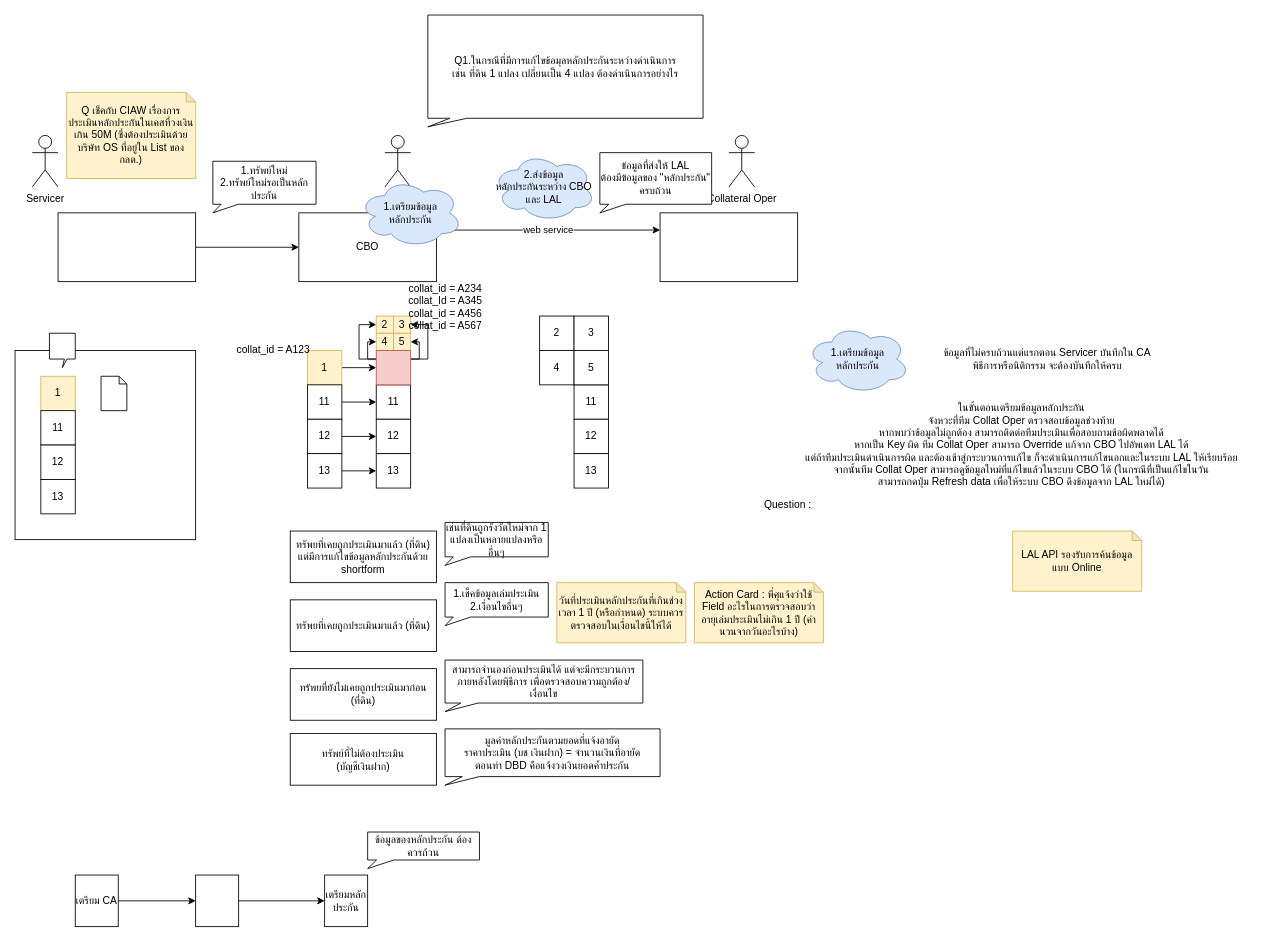
Image size: 1286x942. Some labels were removed from this diagram. The centre of each missing label's shape, as x and y in pixels:
"10M" goes at (x=62, y=350).
"CIAW" goes at (x=126, y=247).
"LAL" goes at (x=728, y=247).
"shortform" goes at (x=113, y=393).
"อนุมัติ" goes at (x=217, y=900).
